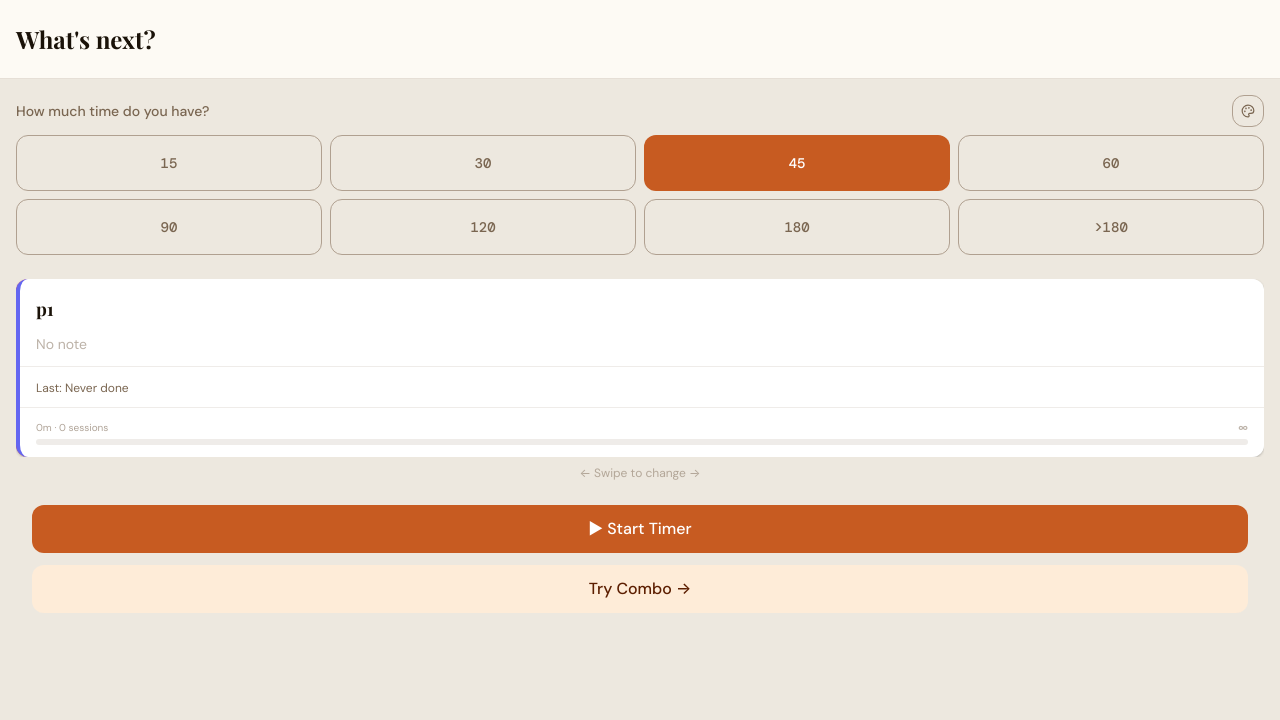
Test: DailySuggestion color filter › swipe hint hidden when only 1 project matches filter
The width and height of the screenshot is (1280, 720).
Click the button named "filter by color" at (1248, 111), box 1232,95 -> 1264,127
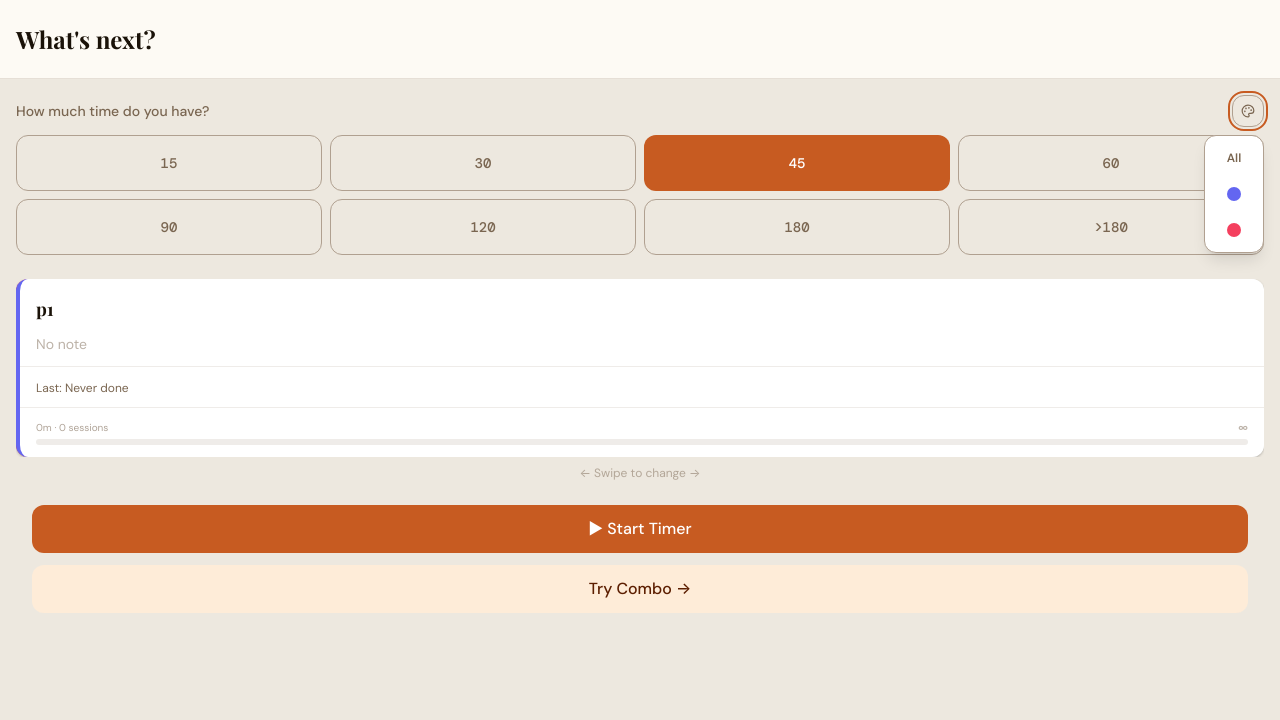
Click the button named "filter by indigo" at (1234, 194), box 1205,176 -> 1263,212
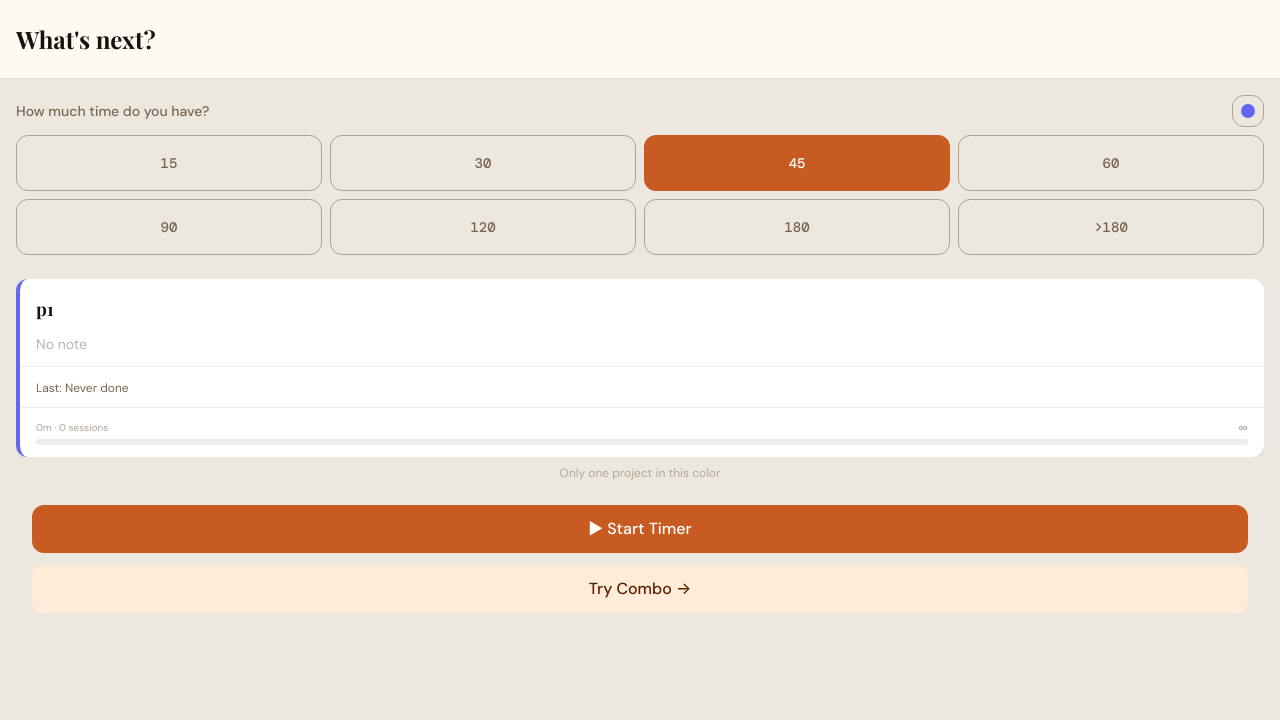
Expected: the text "← Swipe to change →" is gone
